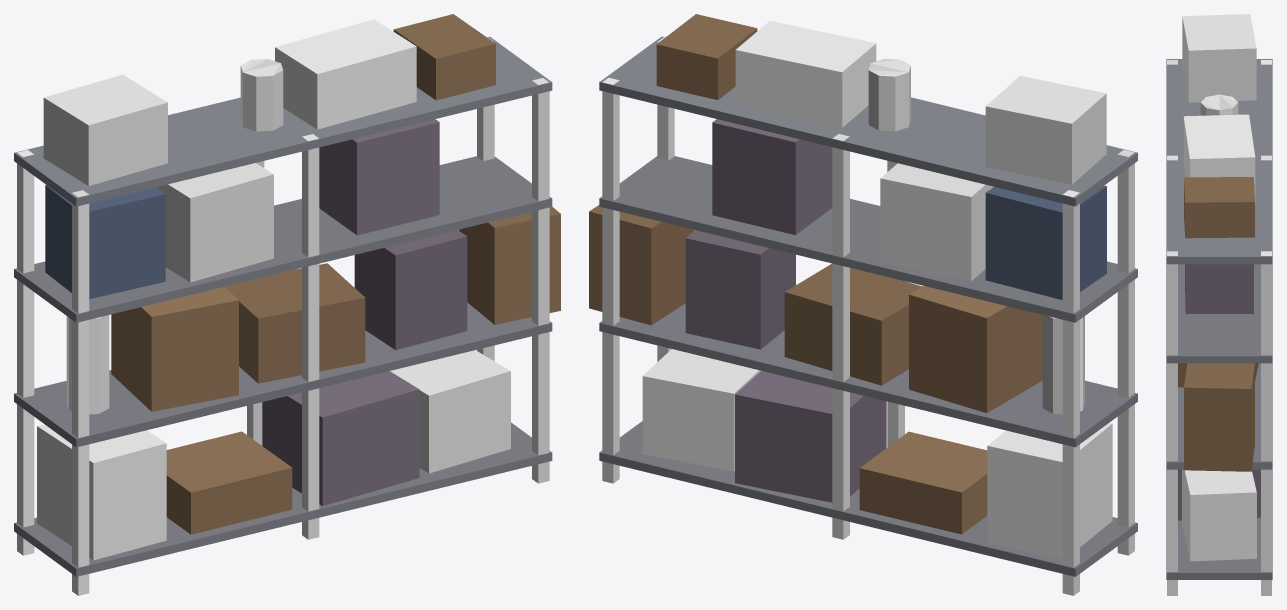
File: Shelf_Storage.fbx
The picture shows the model from 3 angles, left to right: view 1: azimuth 30°, elevation 25°; view 2: azimuth 150°, elevation 25°; view 3: azimuth 270°, elevation 25°; orthographic projection. The views are drawn at different scales.
Parts seen in each view (by area): view 1: Shelf_Storage; view 2: Shelf_Storage; view 3: Shelf_Storage.
Part boxes in pixels (box(x1,y1,x2,y2)): Shelf_Storage: box(14, 14, 560, 595); Shelf_Storage: box(589, 14, 1137, 595); Shelf_Storage: box(1166, 14, 1272, 595).
Size of the model in its own units: 3.14 by 2.77 by 0.68.
